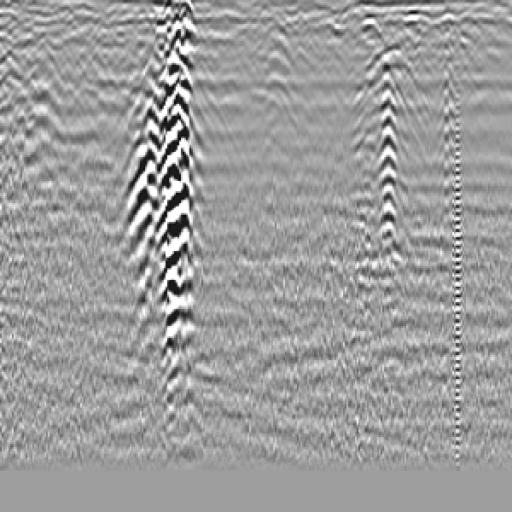metalic: (362, 42, 415, 182), (352, 36, 436, 124)
